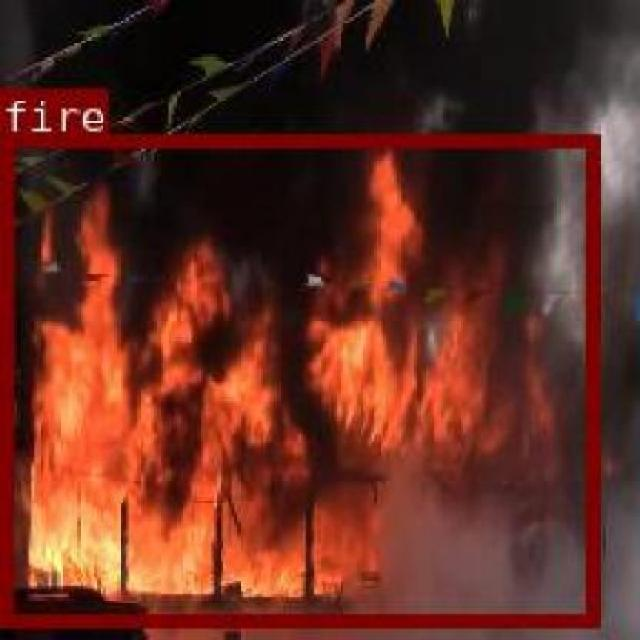Fire: (0, 132, 594, 623)
